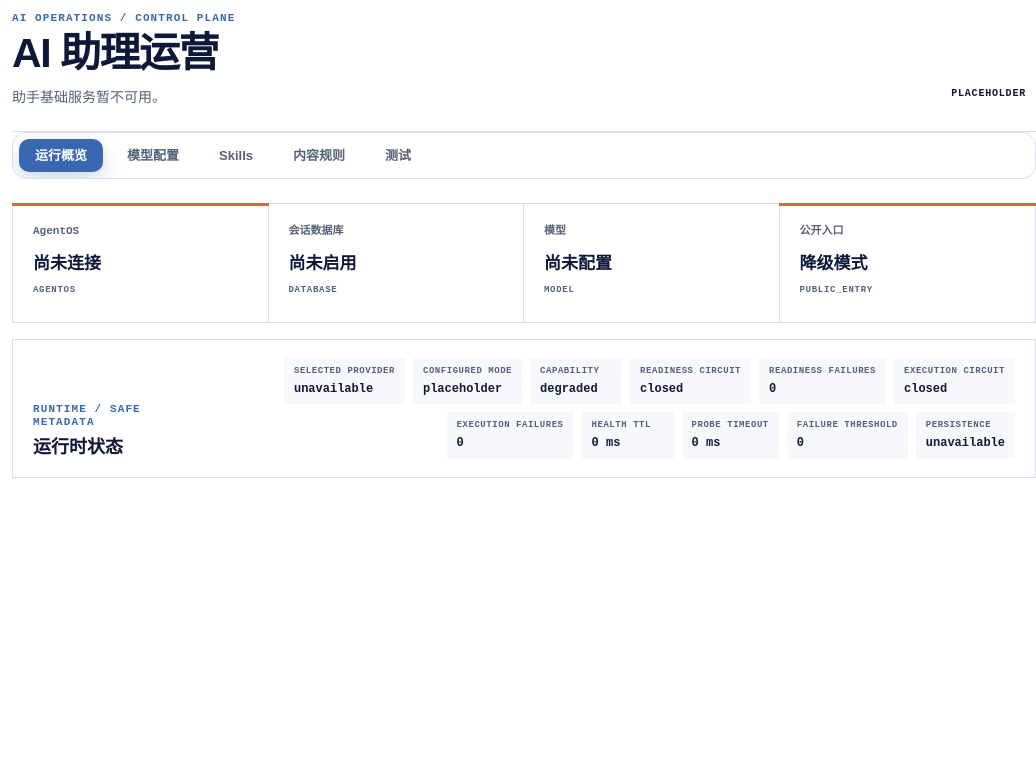
Test: AdminAssistantPage › reports current-page memory when runtime resolution fails
expect the element "运行时状态" is shown: met, box [12,339,1035,478]
expect the text "unavailable" below "Persistence" is shown: met, box [926,436,1005,450]
Step 1. Click the tab "测试" → (398, 156), box [369,139,427,172]
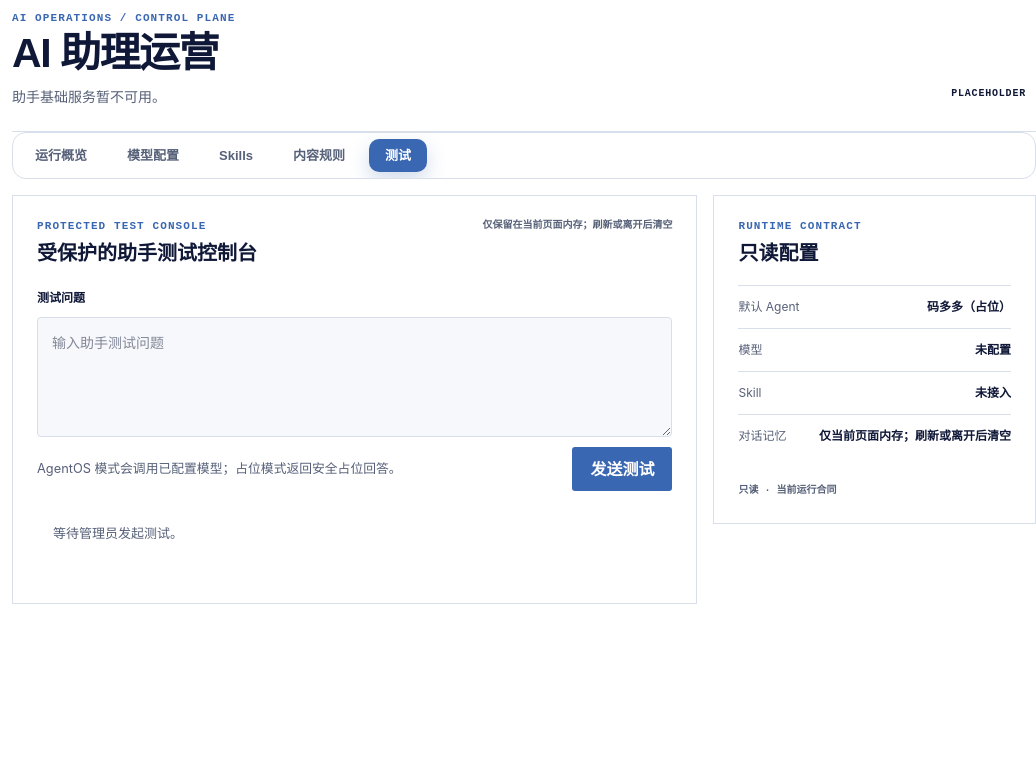
expect the element "只读配置" is shown: met, box [713,195,1035,524]
expect the text "仅当前页面内存；刷新或离开后清空" is shown: met, box [819,427,1011,445]
